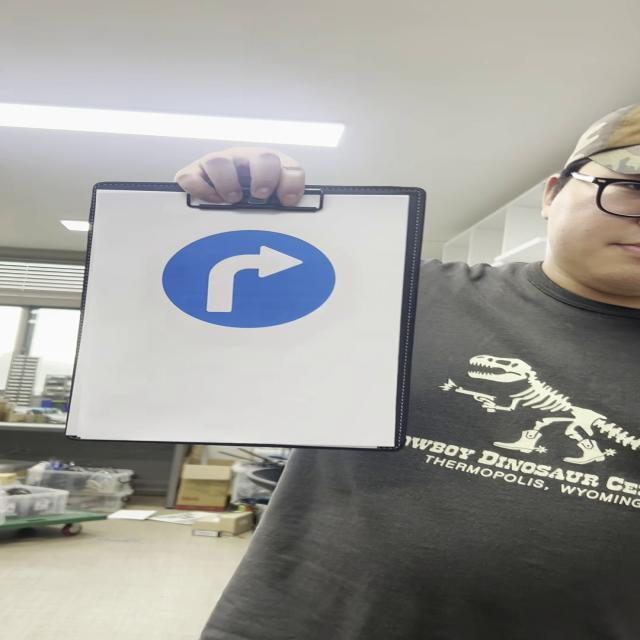right: (157, 231, 335, 325)
